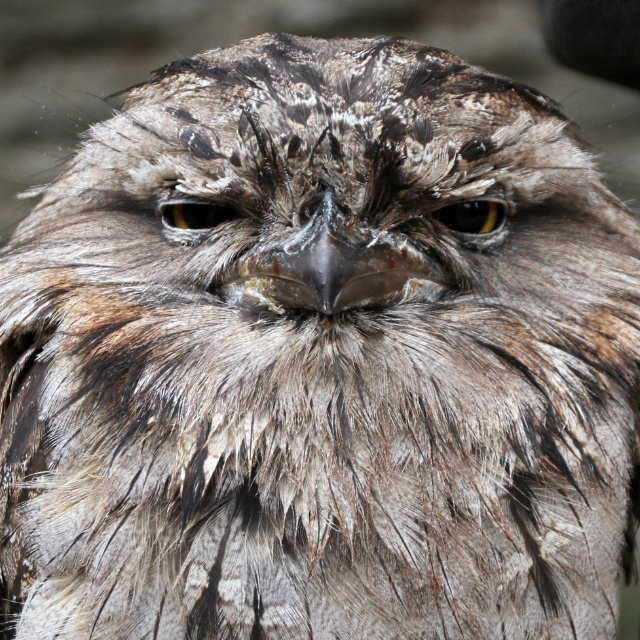Owl: (0, 31, 640, 640)
